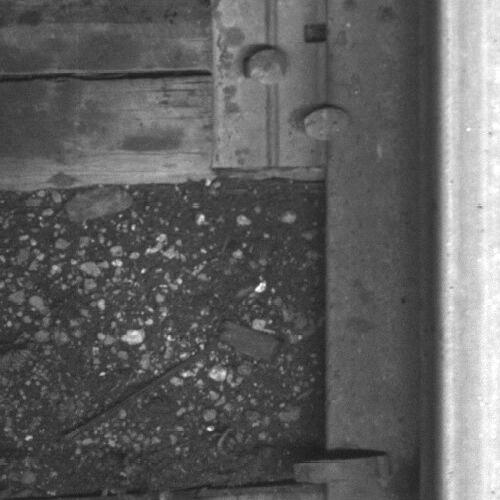crutch: (293, 452, 394, 484)
do: (213, 1, 355, 168)
hole_do: (292, 14, 336, 51)
rail: (437, 1, 500, 500)
tie_wood: (1, 1, 326, 183)
wood_crack: (1, 64, 214, 87)
